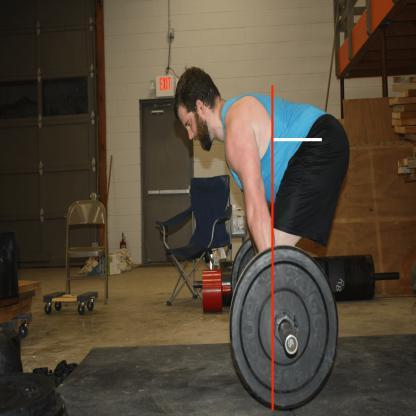Barbell: (284, 335, 302, 359)
